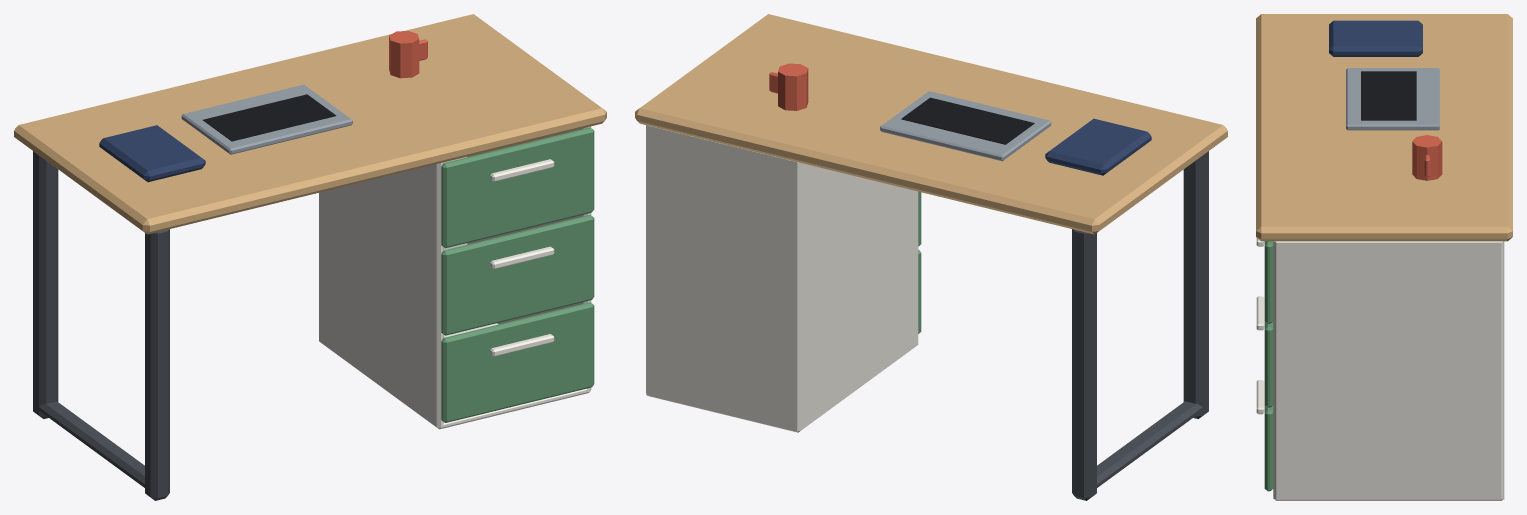
Rendered from desk.glb.
The picture shows the model from 3 angles, left to right: view 1: azimuth 30°, elevation 25°; view 2: azimuth 150°, elevation 25°; view 3: azimuth 270°, elevation 25°; orthographic projection. The views are drawn at different scales.
Visible parts, largest first — view 1: desk_Body; view 2: desk_Body; view 3: desk_Body.
Boxes of the visible parts, x1=… form: desk_Body: x1=14, y1=14, x2=606, y2=500; desk_Body: x1=635, y1=14, x2=1227, y2=500; desk_Body: x1=1256, y1=14, x2=1512, y2=500.
Bounding box in the file's own units: 1.2 × 0.8 × 0.6.
